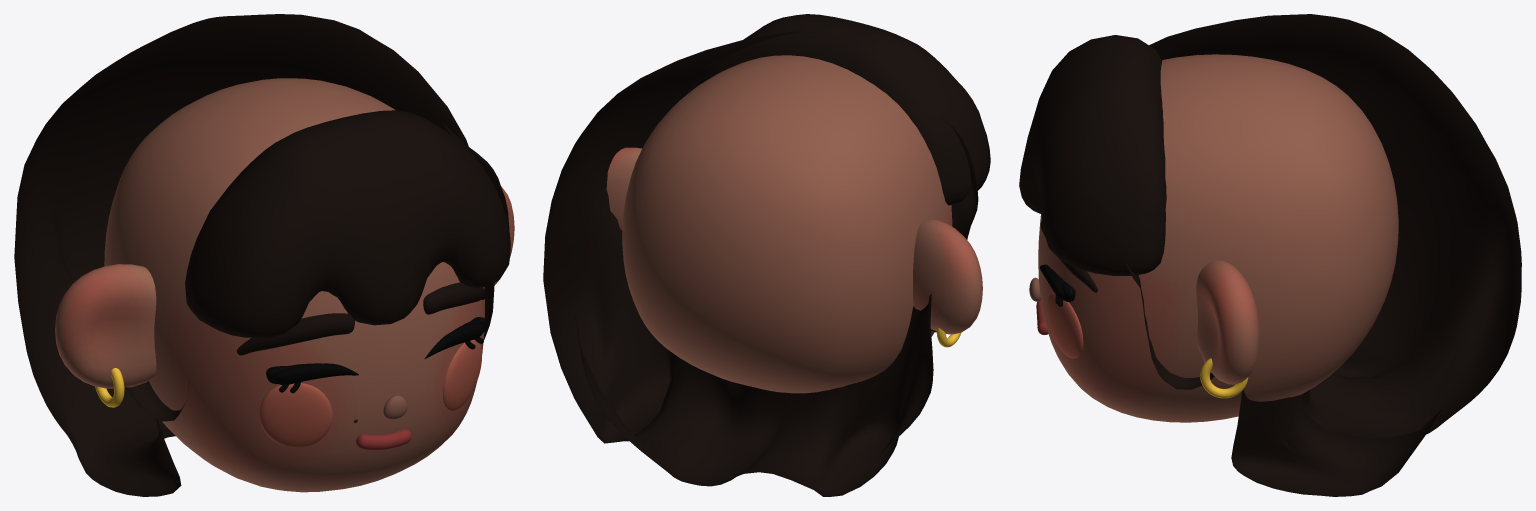
The model's file is chibi-timide.glb.
The picture shows the model from 3 angles, left to right: view 1: azimuth 30°, elevation 25°; view 2: azimuth 150°, elevation 25°; view 3: azimuth 270°, elevation 25°; orthographic projection. The views are drawn at different scales.
Parts seen in each view (by area): view 1: head.002, back.002, bangs.001, ears.002, blush, brows.002, eyes.002, mouth.002, earrings.002; view 2: head.002, back.002, bangs.001, ears.002; view 3: head.002, back.002, bangs.001, ears.002, blush, earrings.002.
Boxes of the visible parts, bbox=[...] form: head.002: bbox=[104, 78, 484, 492]; back.002: bbox=[14, 14, 509, 496]; bangs.001: bbox=[185, 110, 510, 337]; ears.002: bbox=[55, 186, 514, 388]; blush: bbox=[259, 339, 481, 447]; brows.002: bbox=[237, 282, 485, 355]; eyes.002: bbox=[274, 322, 485, 384]; mouth.002: bbox=[356, 429, 411, 450]; earrings.002: bbox=[95, 368, 124, 407]; head.002: bbox=[622, 55, 952, 393]; back.002: bbox=[543, 31, 978, 496]; bangs.001: bbox=[699, 14, 990, 205]; ears.002: bbox=[606, 147, 982, 334]; head.002: bbox=[1038, 54, 1398, 422]; back.002: bbox=[1124, 14, 1521, 496]; bangs.001: bbox=[1019, 35, 1166, 275]; ears.002: bbox=[1196, 260, 1259, 384]; blush: bbox=[1046, 292, 1083, 358]; earrings.002: bbox=[1200, 358, 1248, 398].
Size of the model in its own units: 2.16 by 1.95 by 2.23.
Materials: 9 (3 with a texture image).
